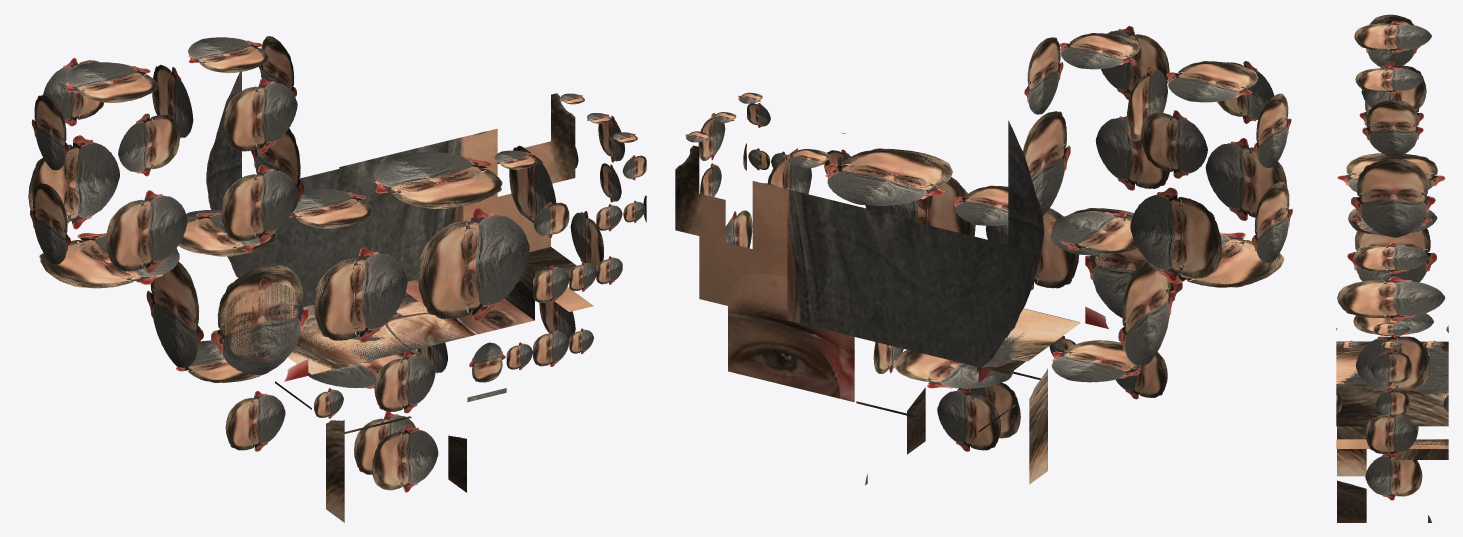
Rendered from respassmaybe.fbx.
The picture shows the model from 3 angles, left to right: view 1: azimuth 30°, elevation 25°; view 2: azimuth 150°, elevation 25°; view 3: azimuth 270°, elevation 25°; orthographic projection. The views are drawn at different scales.
Parts seen in each view (by area): view 1: Cube.001; view 2: Cube.001; view 3: Cube.001.
Part boxes in pixels (bbox=[...]): Cube.001: bbox=[28, 36, 646, 522]; Cube.001: bbox=[675, 26, 1292, 485]; Cube.001: bbox=[1336, 14, 1448, 522].
Size of the model in its own units: 906 by 717 by 200.
Materials: 1 (1 with a texture image).
